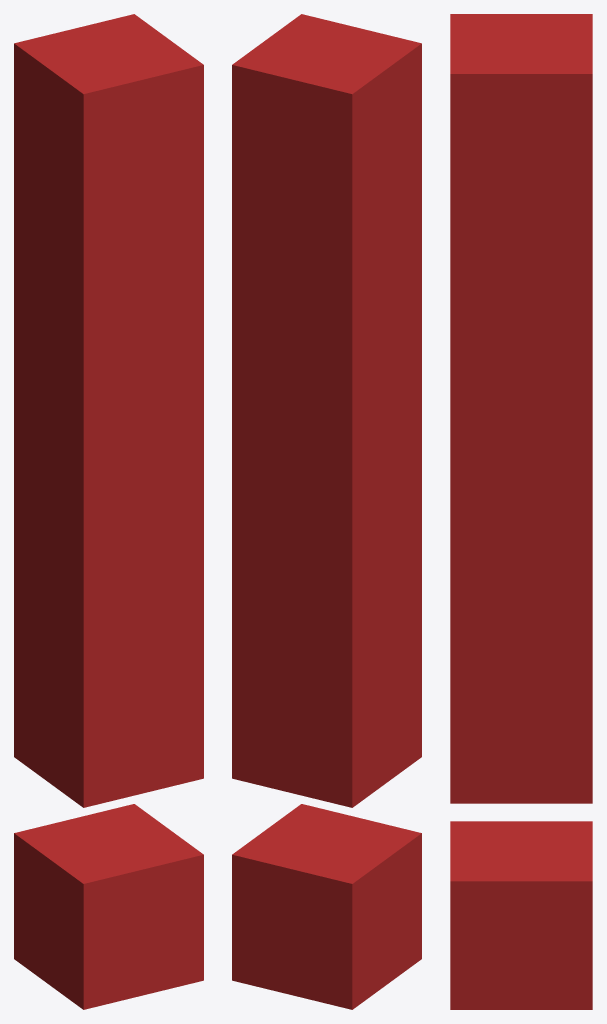
Rendered from Indication.FBX.
3 views of the same model, side by side, from view 1: azimuth 30°, elevation 25°; view 2: azimuth 150°, elevation 25°; view 3: azimuth 270°, elevation 25° (orthographic). The views are drawn at different scales.
Visible parts, largest first — view 1: Box003; view 2: Box003; view 3: Box003.
Boxes of the visible parts, x1,y1,x2,y2 form: Box003: [14, 14, 203, 1009]; Box003: [232, 14, 421, 1009]; Box003: [450, 14, 592, 1009].
Size of the model in its own units: 15 by 109 by 15.
